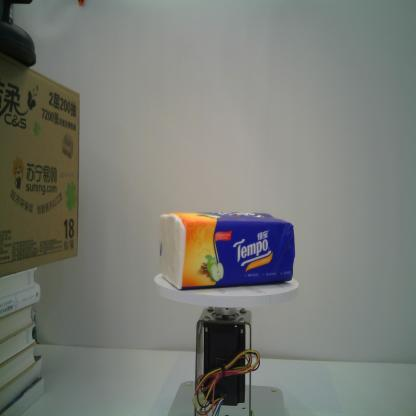Tissue: (160, 212, 296, 290)
